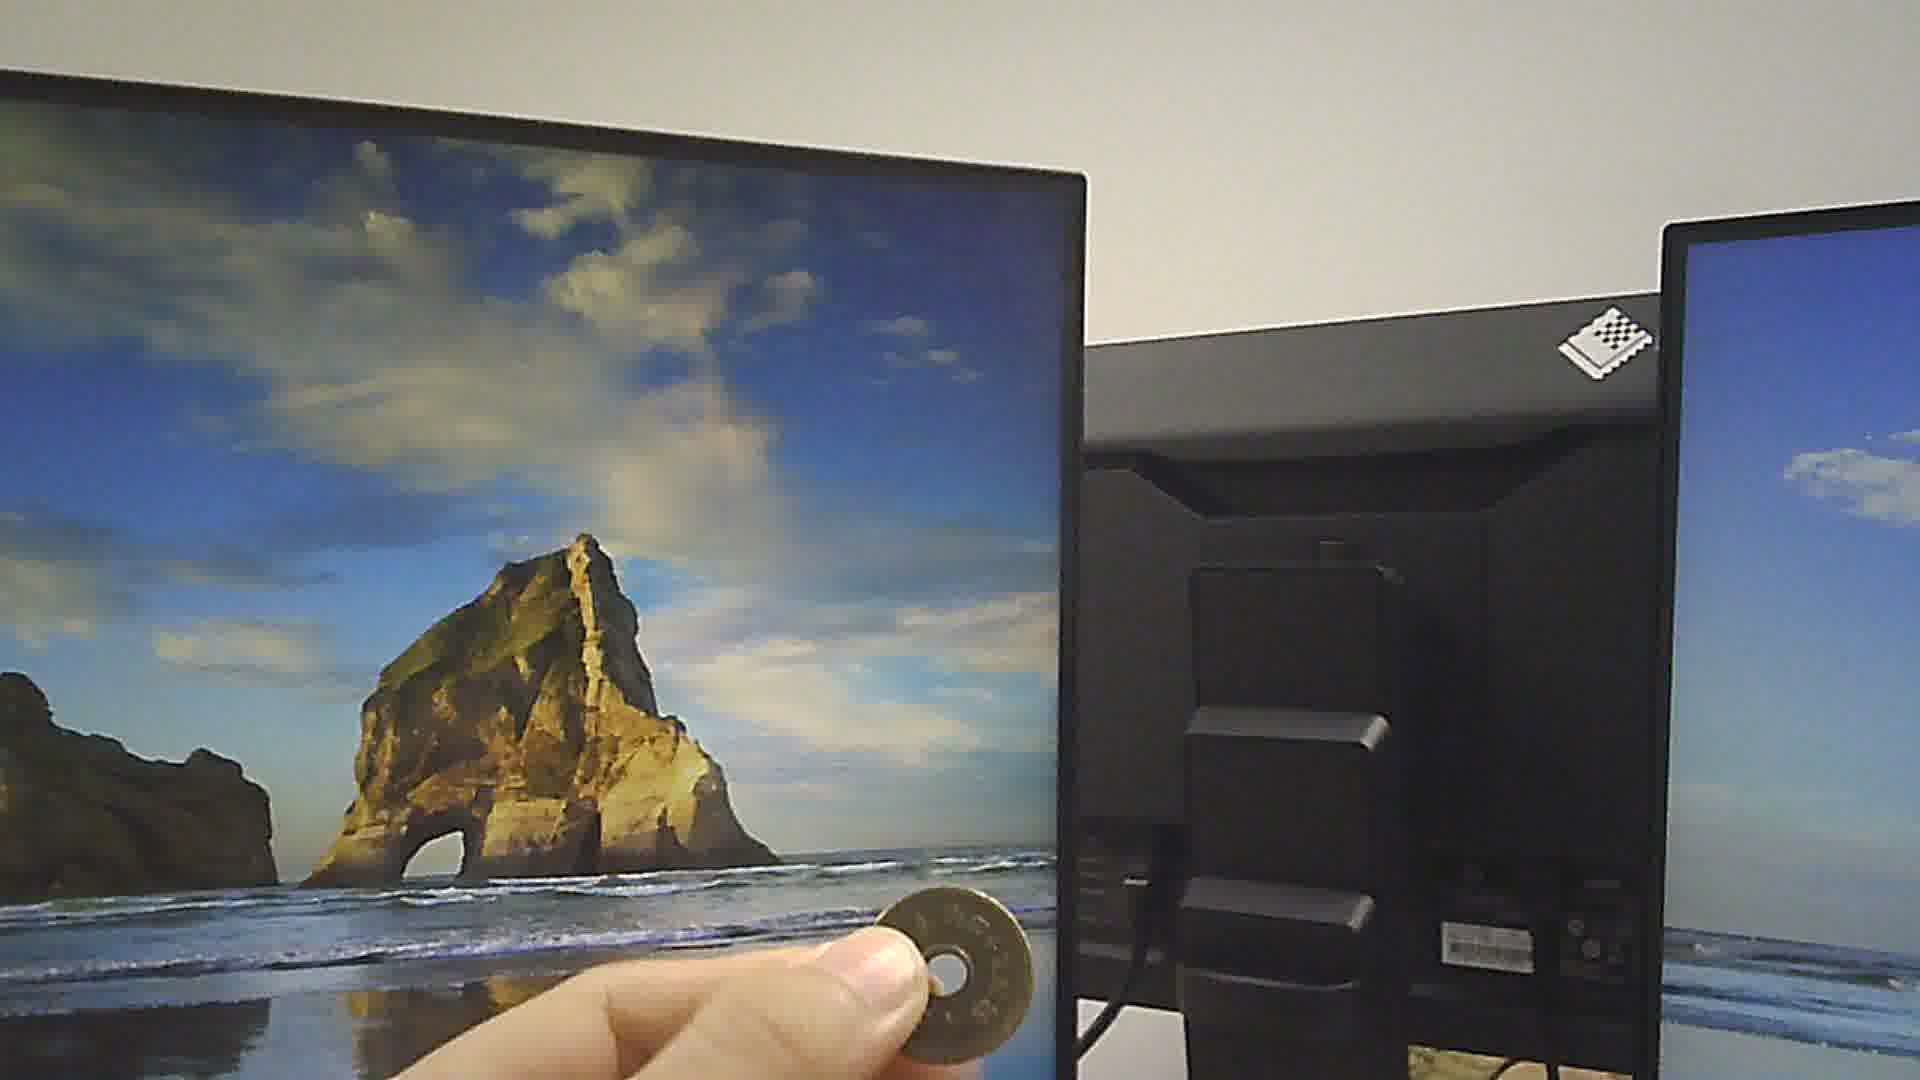5 Yen: (865, 878, 1033, 1064)
